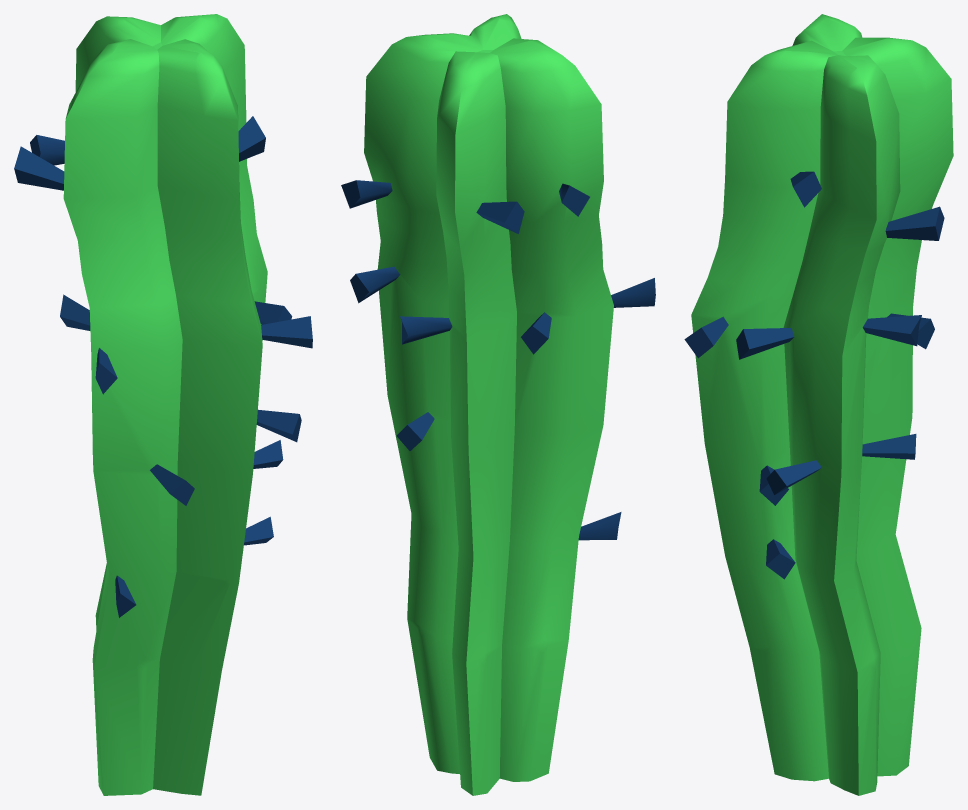
Rendered from long_cactus.fbx.
The picture shows the model from 3 angles, left to right: view 1: azimuth 30°, elevation 25°; view 2: azimuth 150°, elevation 25°; view 3: azimuth 270°, elevation 25°; orthographic projection. The views are drawn at different scales.
Visible parts, largest first — view 1: long_cactus; view 2: long_cactus; view 3: long_cactus.
Part boxes in pixels (x1=…): long_cactus: x1=14, y1=14, x2=312, y2=795; long_cactus: x1=341, y1=14, x2=655, y2=795; long_cactus: x1=684, y1=14, x2=953, y2=795.
Bounding box in the file's own units: 28 × 82.42 × 27.39.
